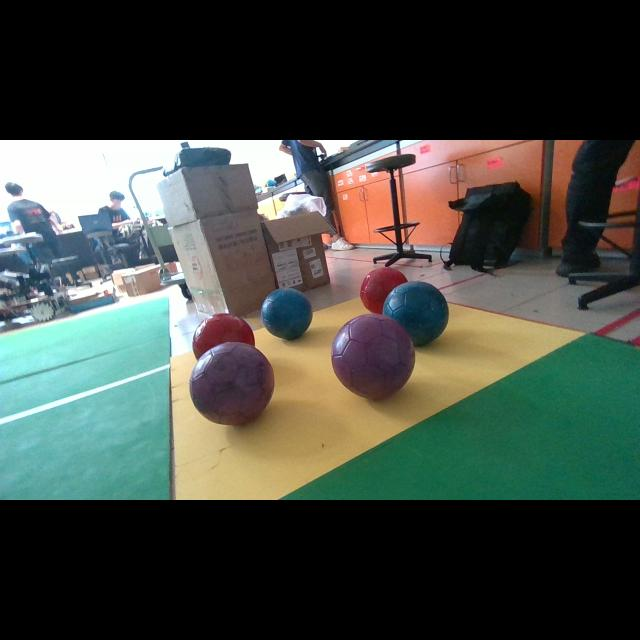B: (382, 281, 449, 346), (261, 289, 312, 339)
P: (331, 314, 415, 400), (190, 342, 275, 425)
R: (192, 314, 255, 359), (360, 268, 408, 313)
